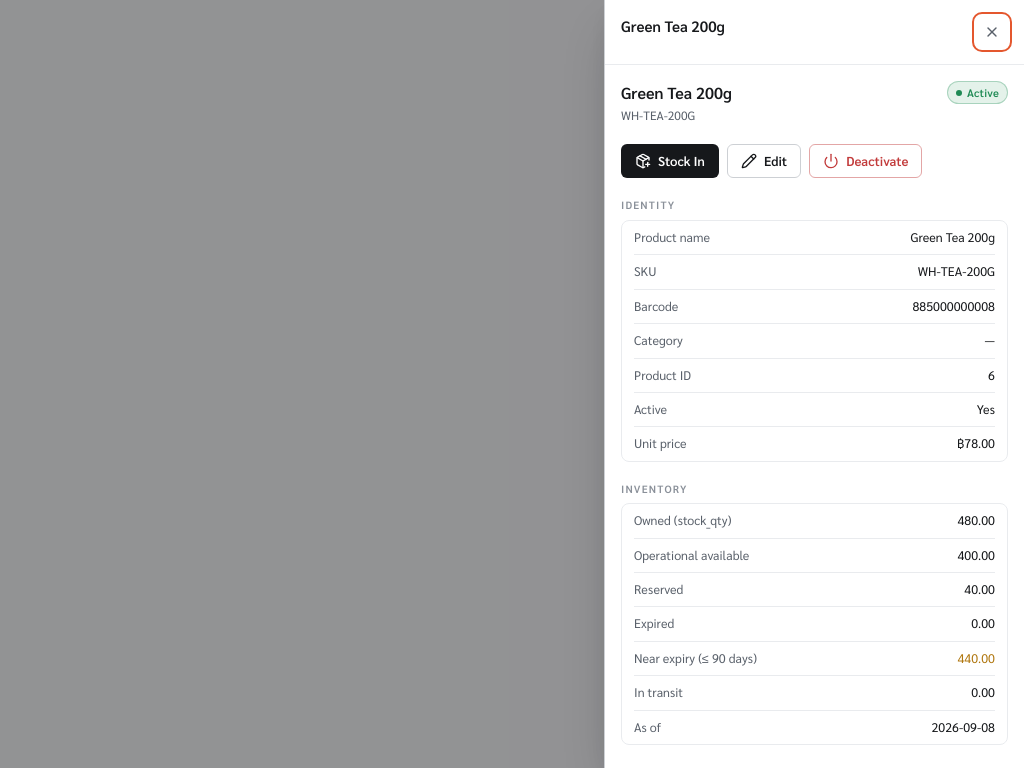
ProductDetailDrawer › opens the edit form inline (no stacked drawer)
This screenshot has width=1024, height=768.
Click the button "Edit" at (764, 161), box [727,144,801,178]
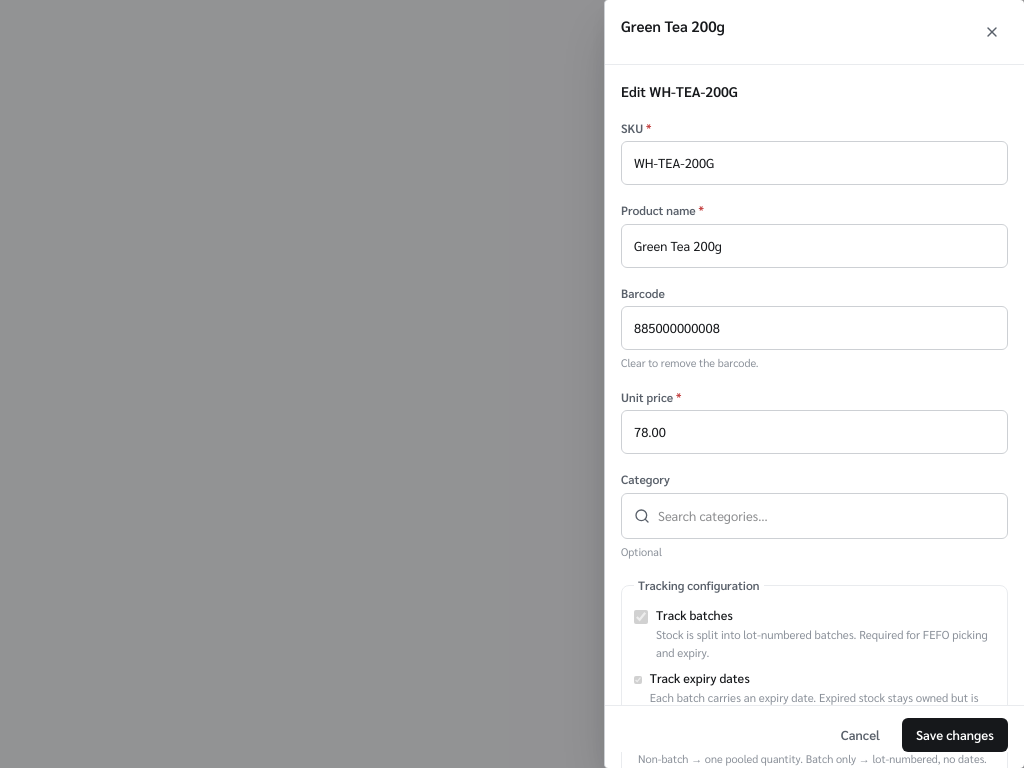
Expected: the number of dialogs is 1, [604,0,1023,767]
Result: the button "Save changes" is shown at [902,718,1008,752]
